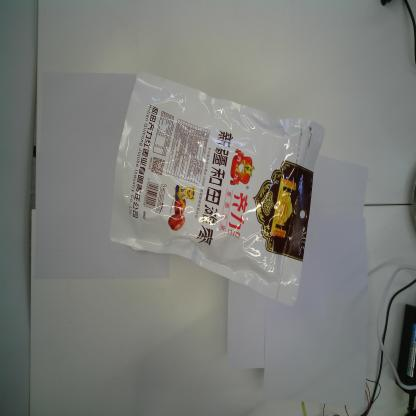Dried Food: (109, 70, 325, 307)
